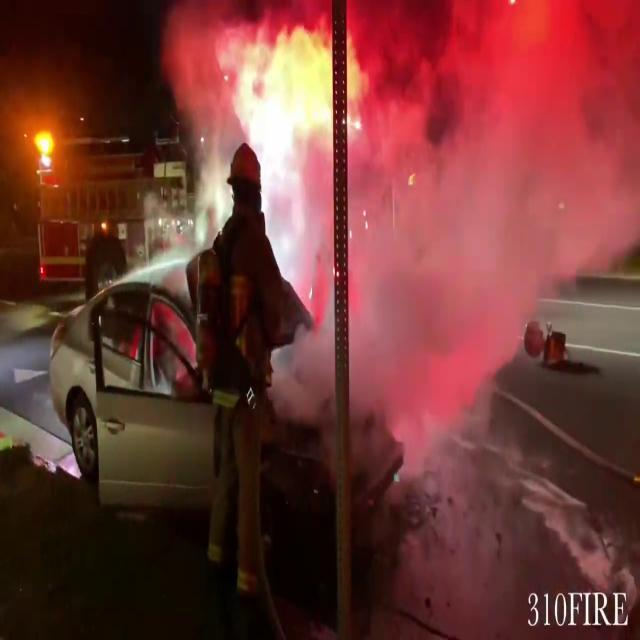Smoke: (349, 0, 639, 420), (150, 1, 332, 244)
